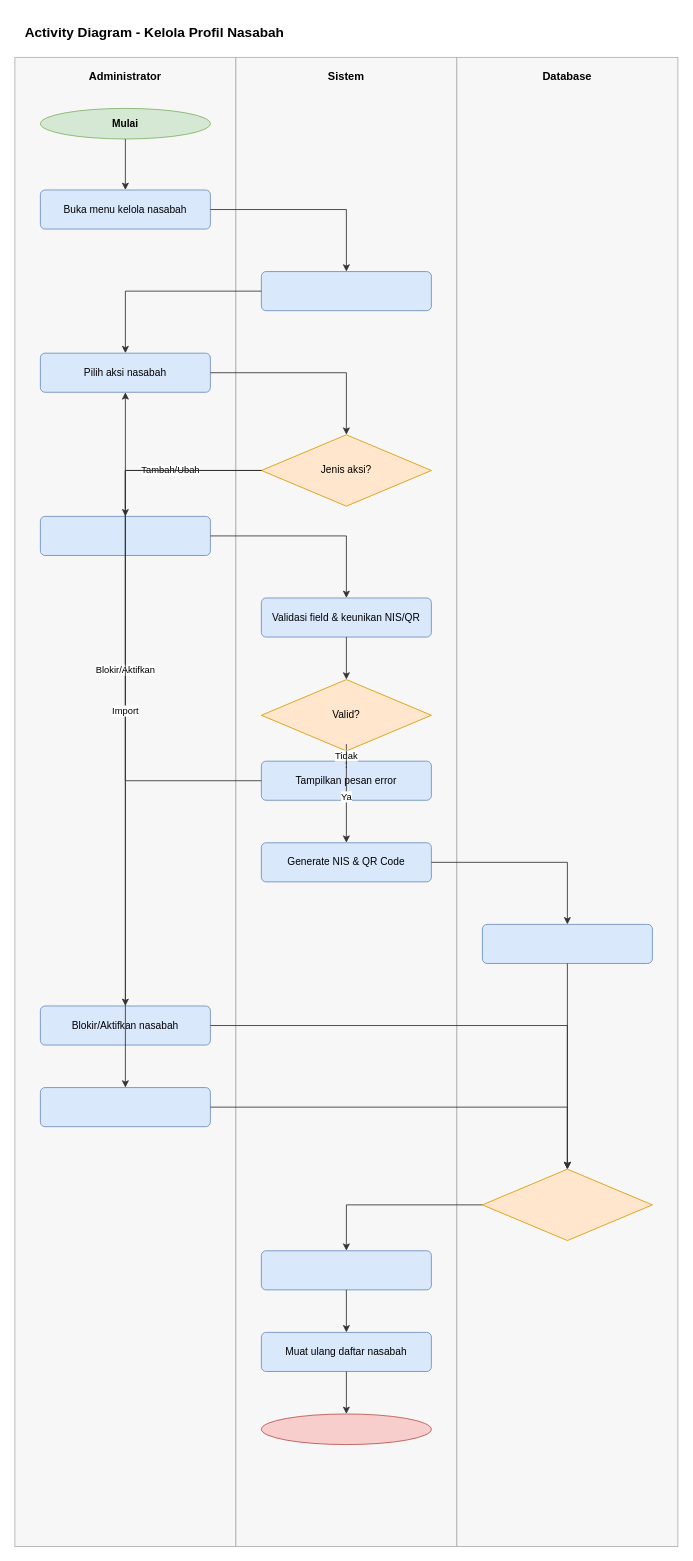
Some shapes in this 693 by 1561 pixel diagram are drawn without their labels. The shapes that lost their labels are listed below. From the top down, each one's box as (x1, y1, x2, y2) in pixels, then its label:
(261, 271, 431, 311): Filter status / cari nama-NIS-kelas
(40, 516, 210, 555): Isi/ubah profil (nama, kelas, no HP, PIN)
(482, 924, 652, 963): Buat customer + rekening otomatis
(40, 1087, 210, 1127): Import CSV nasabah
(482, 1168, 652, 1241): Simpan perubahan
(261, 1250, 431, 1290): Catat audit log
(261, 1413, 431, 1445): Selesai
